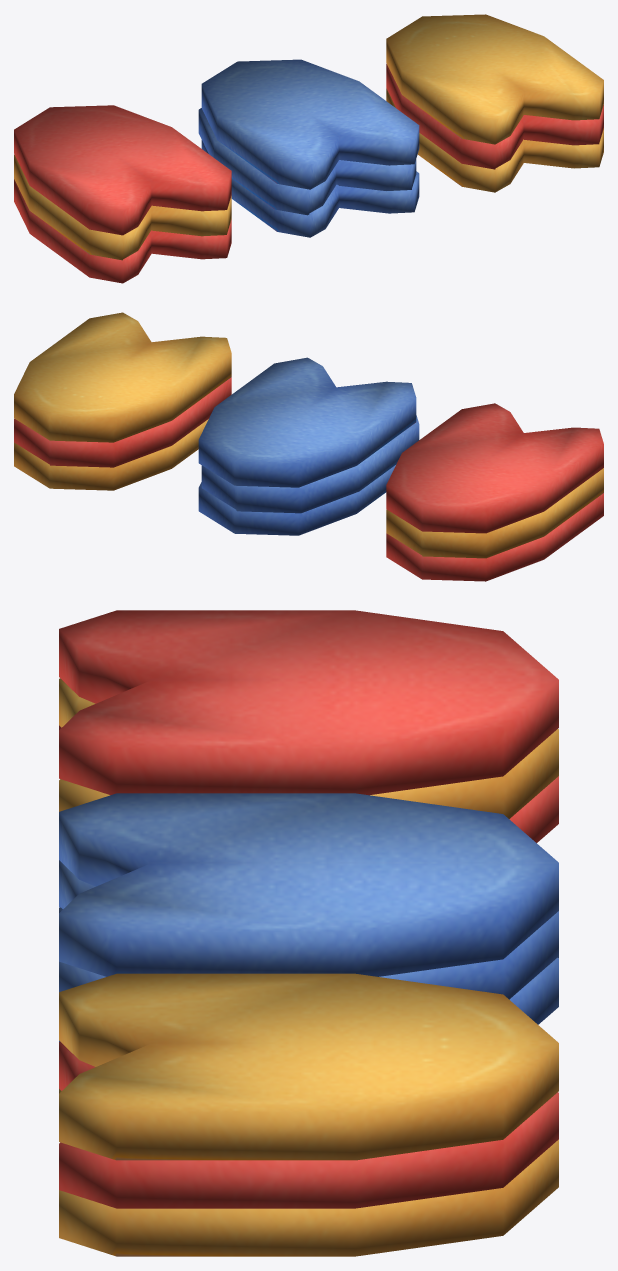
File: a_SEswim02.glb
3 views of the same model, one above another, from view 1: azimuth 30°, elevation 25°; view 2: azimuth 150°, elevation 25°; view 3: azimuth 270°, elevation 25° (orthographic). The views are drawn at different scales.
Visible parts, largest first — view 1: a_SEswim02; view 2: a_SEswim02; view 3: a_SEswim02.
Boxes of the visible parts, x1,y1,x2,y2 form: a_SEswim02: (14,14,603,283); a_SEswim02: (14,312,603,581); a_SEswim02: (59,610,558,1256).
Size of the model in its own units: 1.59 by 0.2132 by 0.671.
Materials: 1 (1 with a texture image).
